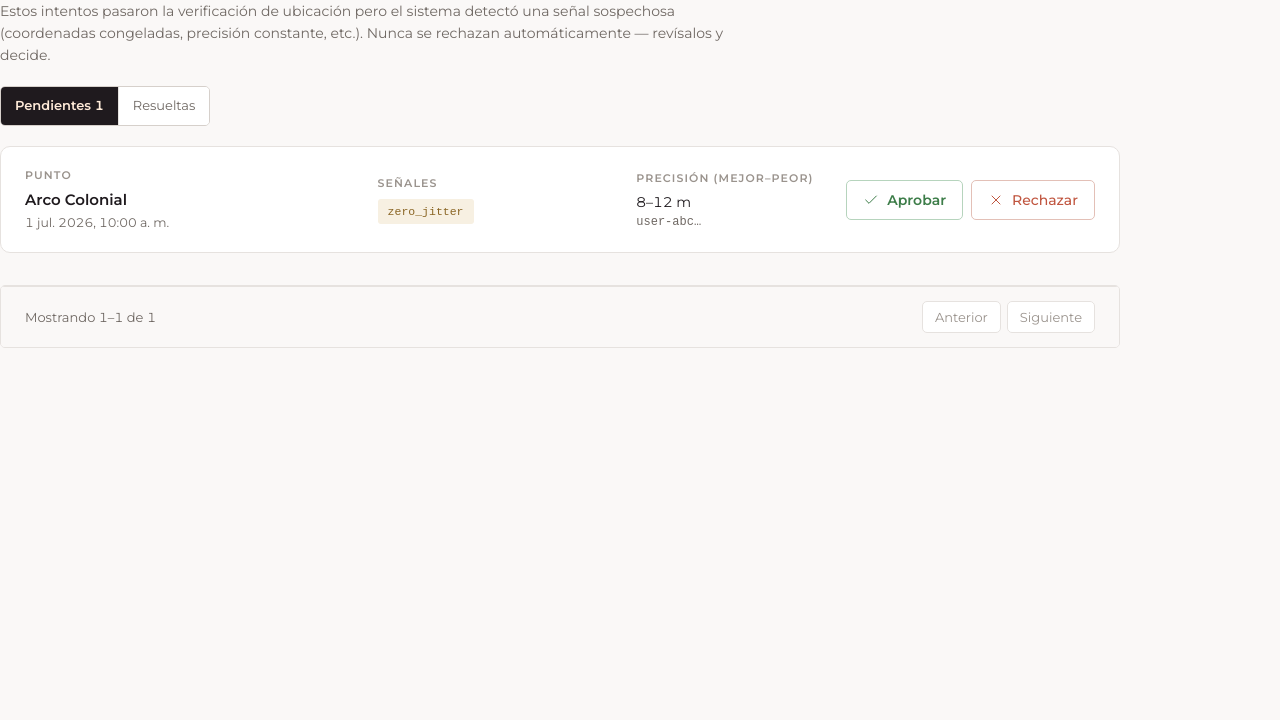
Scenario: ReviewQueuePage › reject shows the flag-only warning before confirming
This screenshot has width=1280, height=720.
Expected: the text "Arco Colonial" is shown, [25,190,127,209]
Click the button "Rechazar": (1033, 200) [971,180,1095,220]
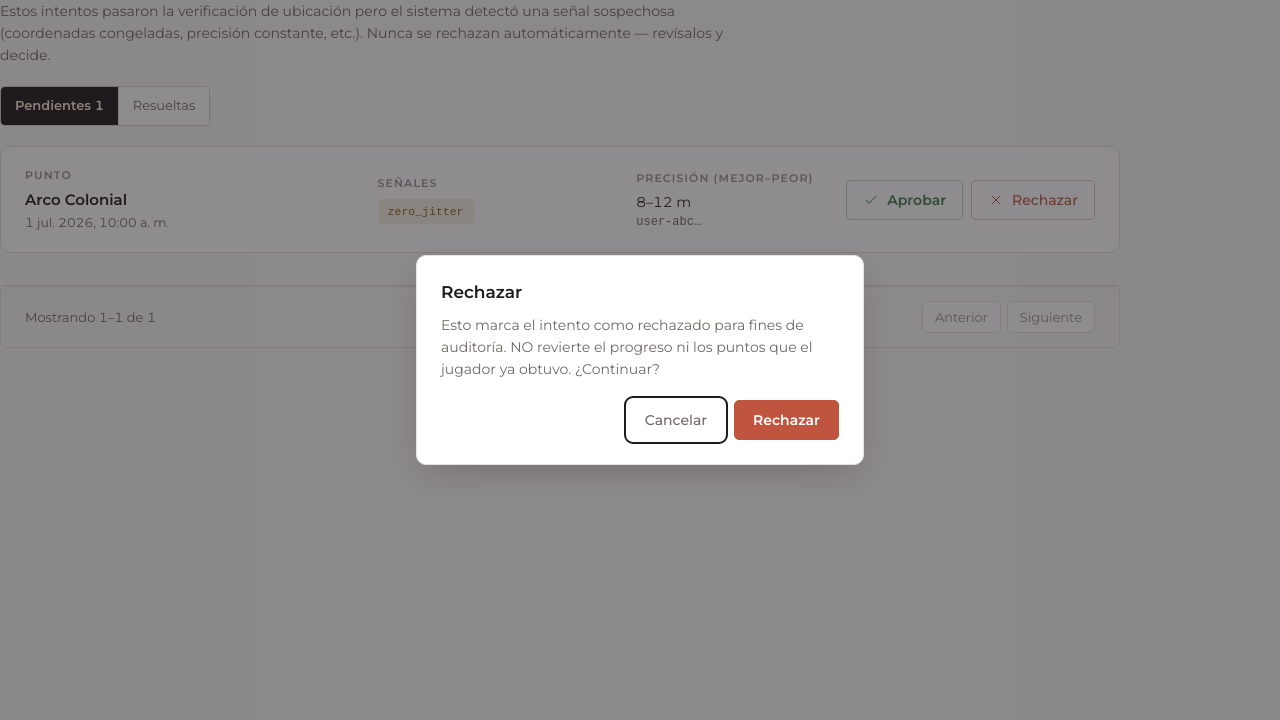
Expected: the text "Esto marca el intento como rechazado para fines de auditoría. NO revierte el progreso ni los puntos que el jugador ya ob" is shown, [441,316,812,378]
